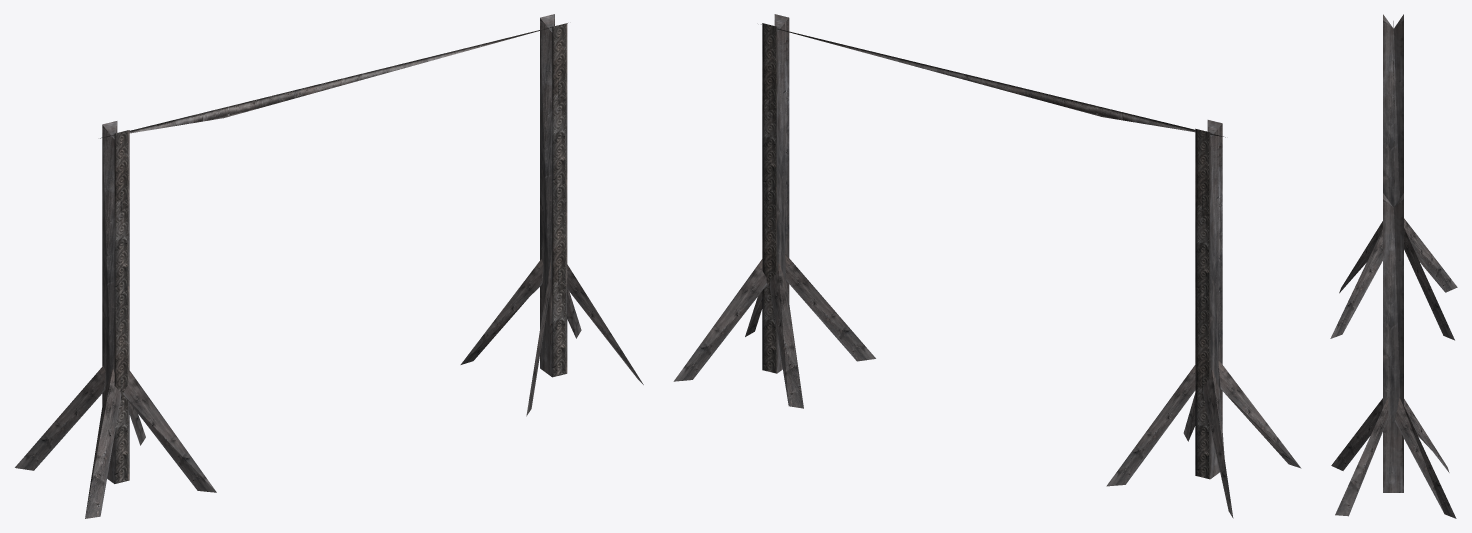
File: tavern_cookerholder_LOD.dae
3 views of the same model, side by side, from view 1: azimuth 30°, elevation 25°; view 2: azimuth 150°, elevation 25°; view 3: azimuth 270°, elevation 25° (orthographic). The views are drawn at different scales.
Visible parts, largest first — view 1: Default_Layer; view 2: Default_Layer; view 3: Default_Layer.
Boxes of the visible parts, x1,y1,x2,y2 form: Default_Layer: [15, 14, 643, 518]; Default_Layer: [673, 14, 1301, 518]; Default_Layer: [1330, 14, 1457, 518].
Size of the model in its own units: 10.63 by 6.35 by 2.48.
